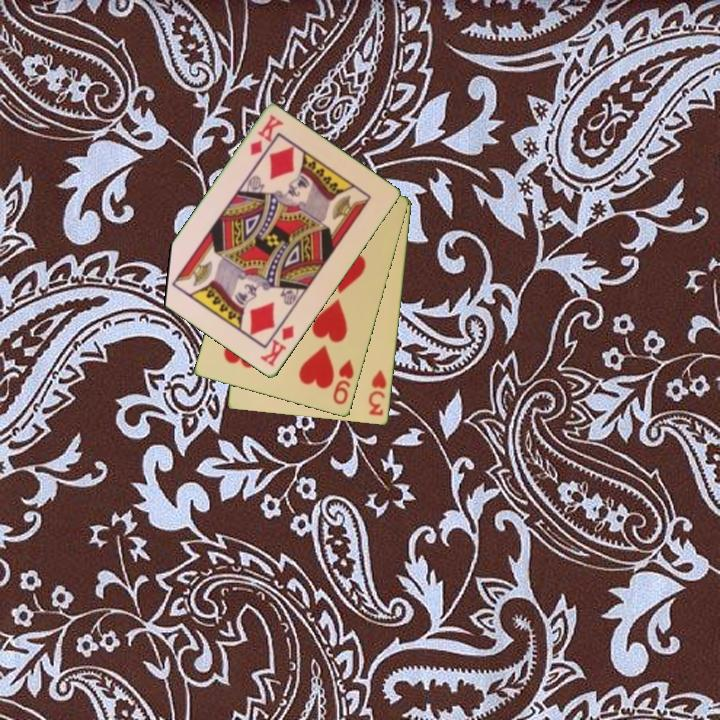3h: (365, 367, 390, 419)
9h: (329, 357, 357, 408)
Kd: (257, 322, 297, 370), (247, 111, 286, 159)
